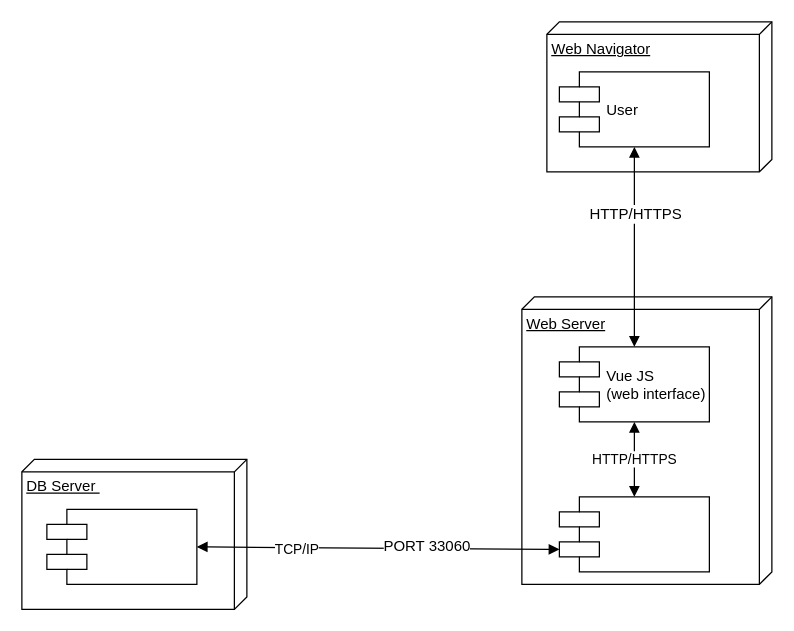
Image size: 794x631. Some labels were removed from this diagram. Each missing label, with the centre of its shape:
Apache Tomcat .jar: point 633,534
MySql: point 121,546
